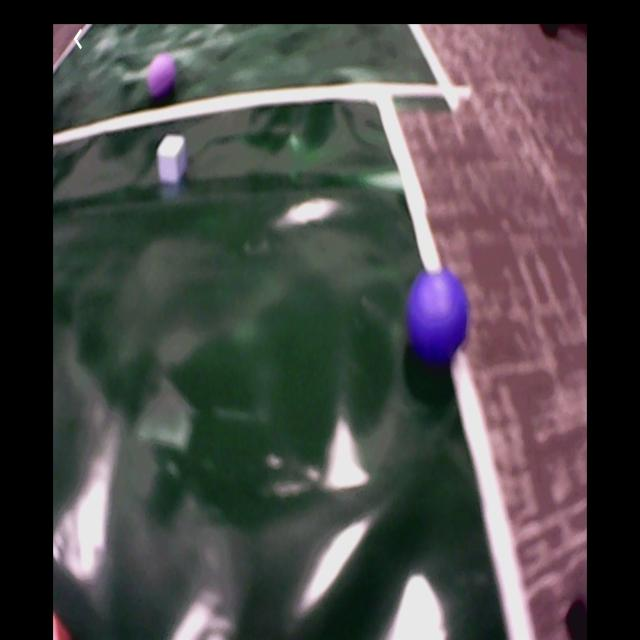ball: (408, 268, 470, 358), (147, 53, 178, 97)
